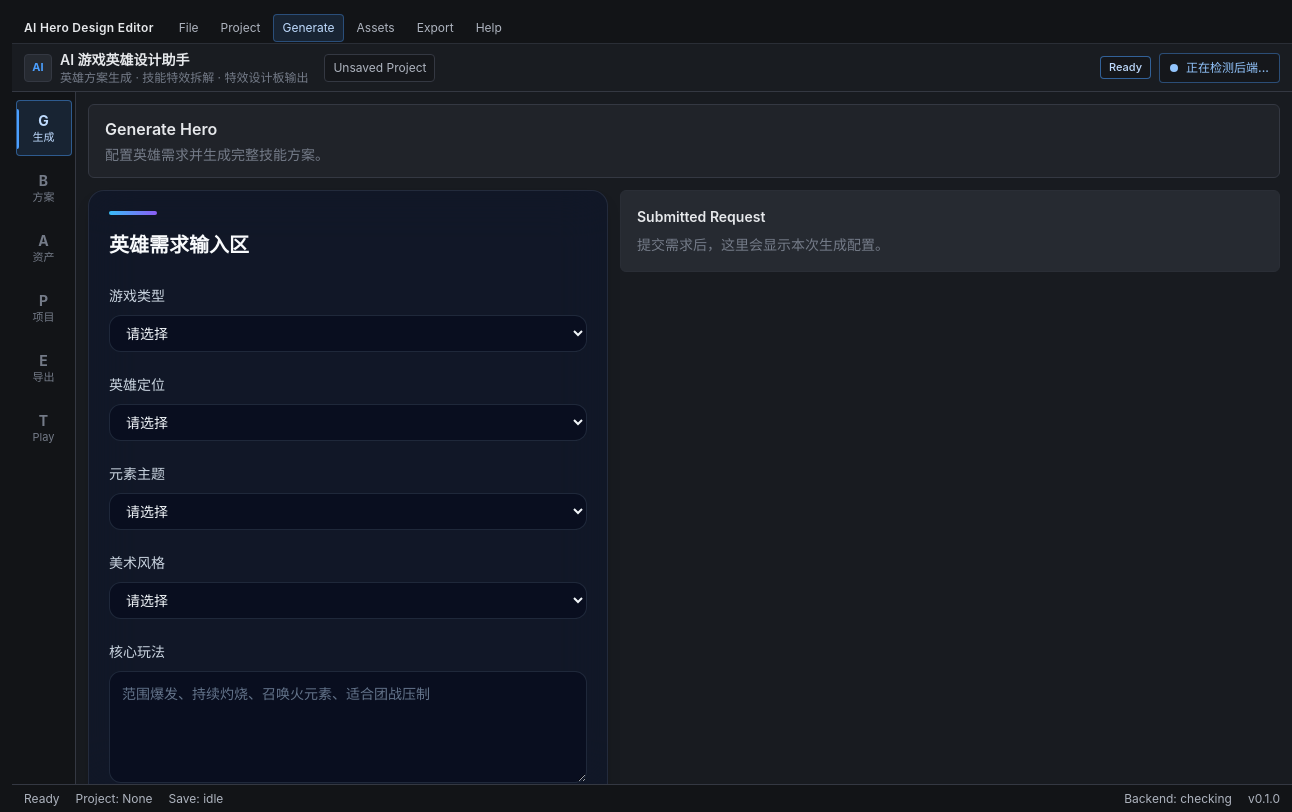
Test case: runtime vfx project integration › generates runtime vfx and saves runtime_vfx_asset_spec
Click the button with aria-label "Projects" at [44, 308], box [16, 280, 72, 336]
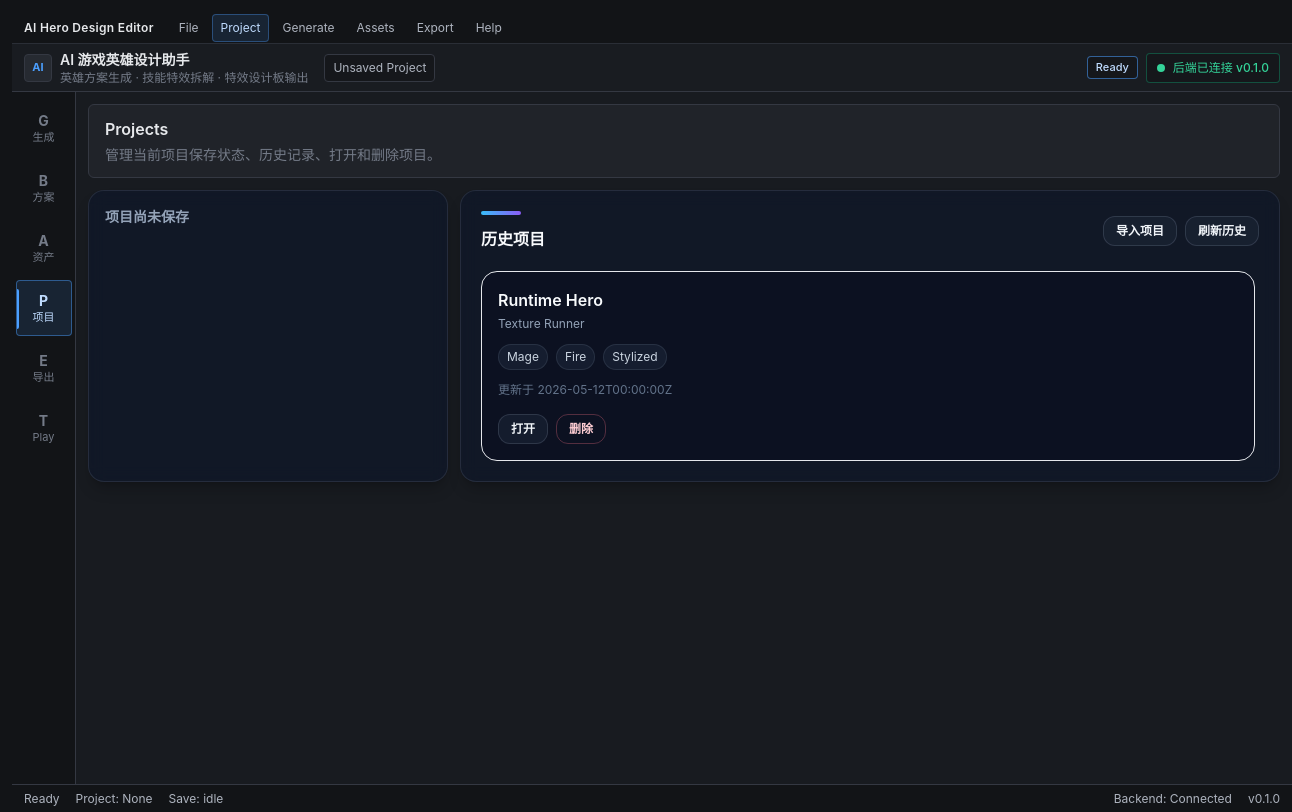
Expected: the heading "Runtime Hero" is shown, [498, 288, 603, 312]
Click the button "打开" at [523, 429], box [498, 414, 548, 444]
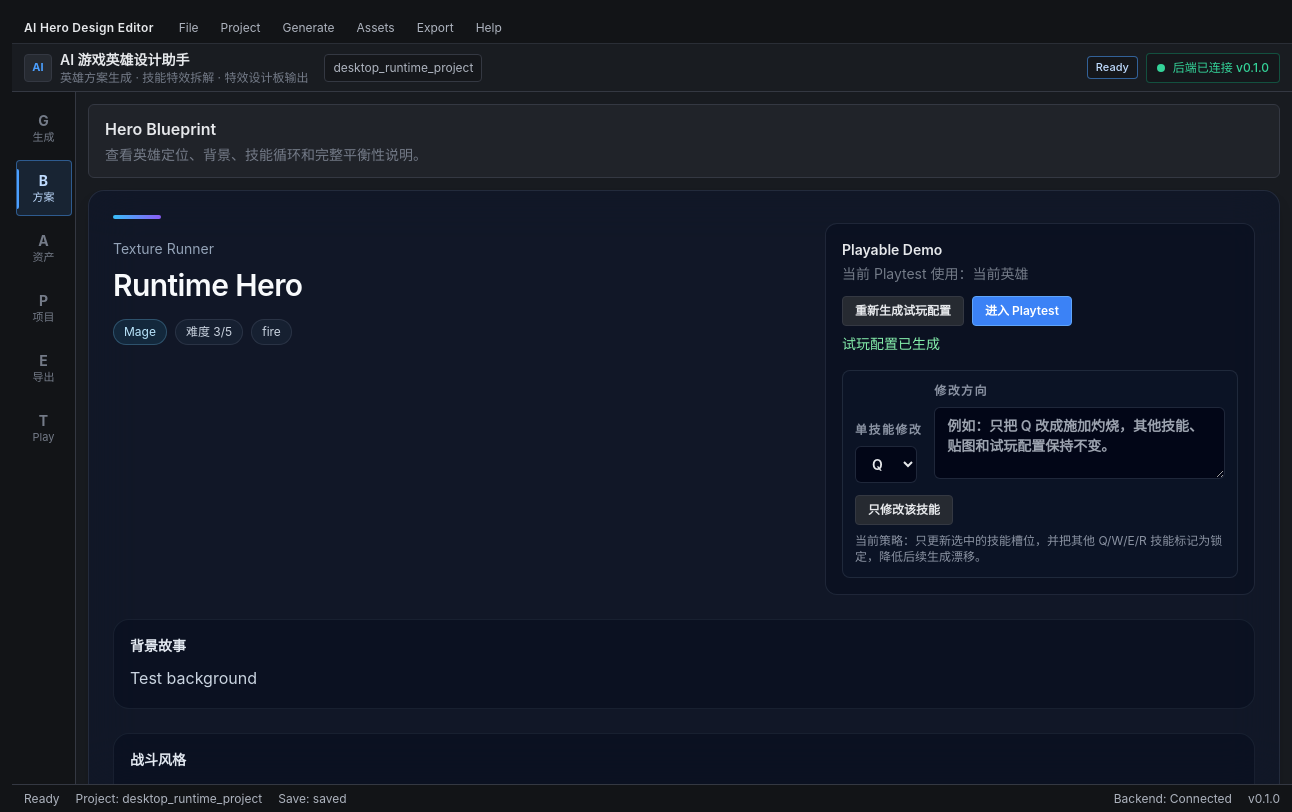
Click the button with aria-label "Assets" at [44, 248], box [16, 220, 72, 276]
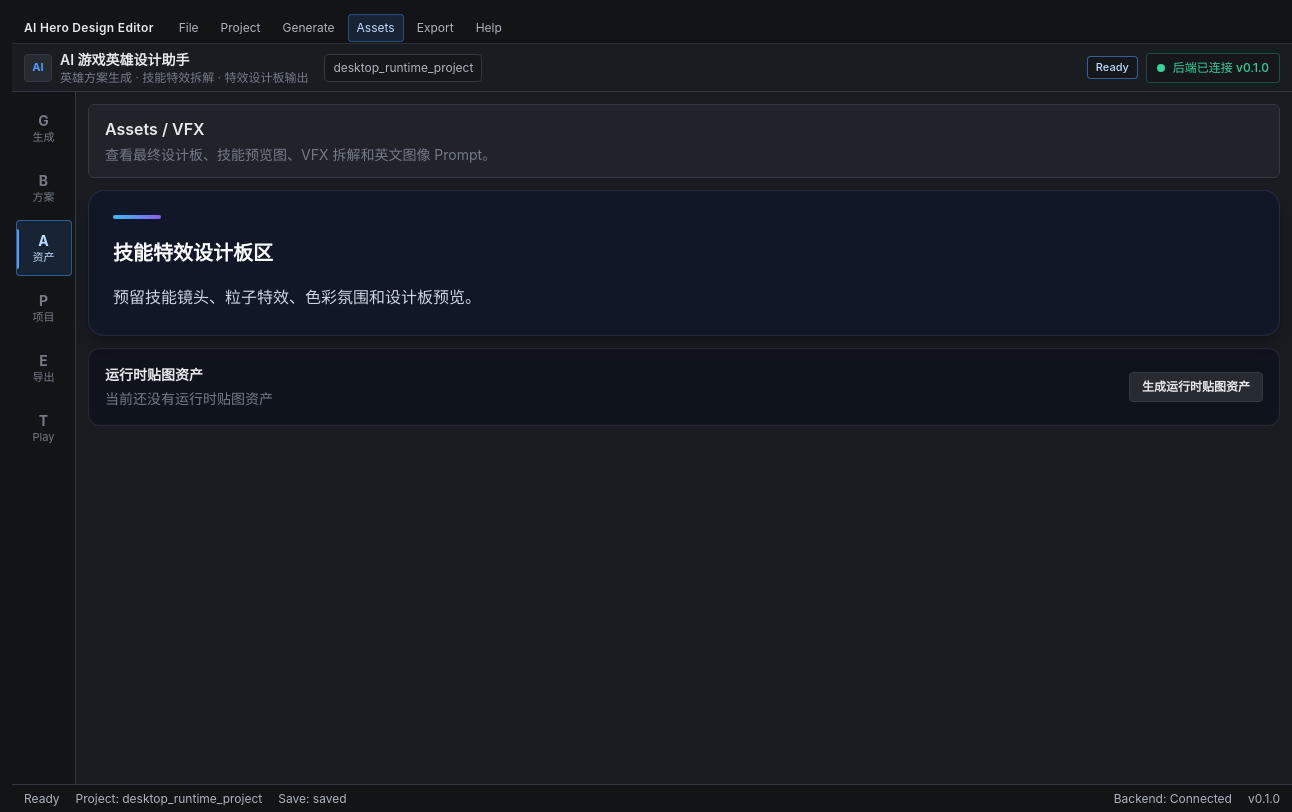
Click the button "生成运行时贴图资产" at [1196, 387], box [1129, 372, 1263, 402]
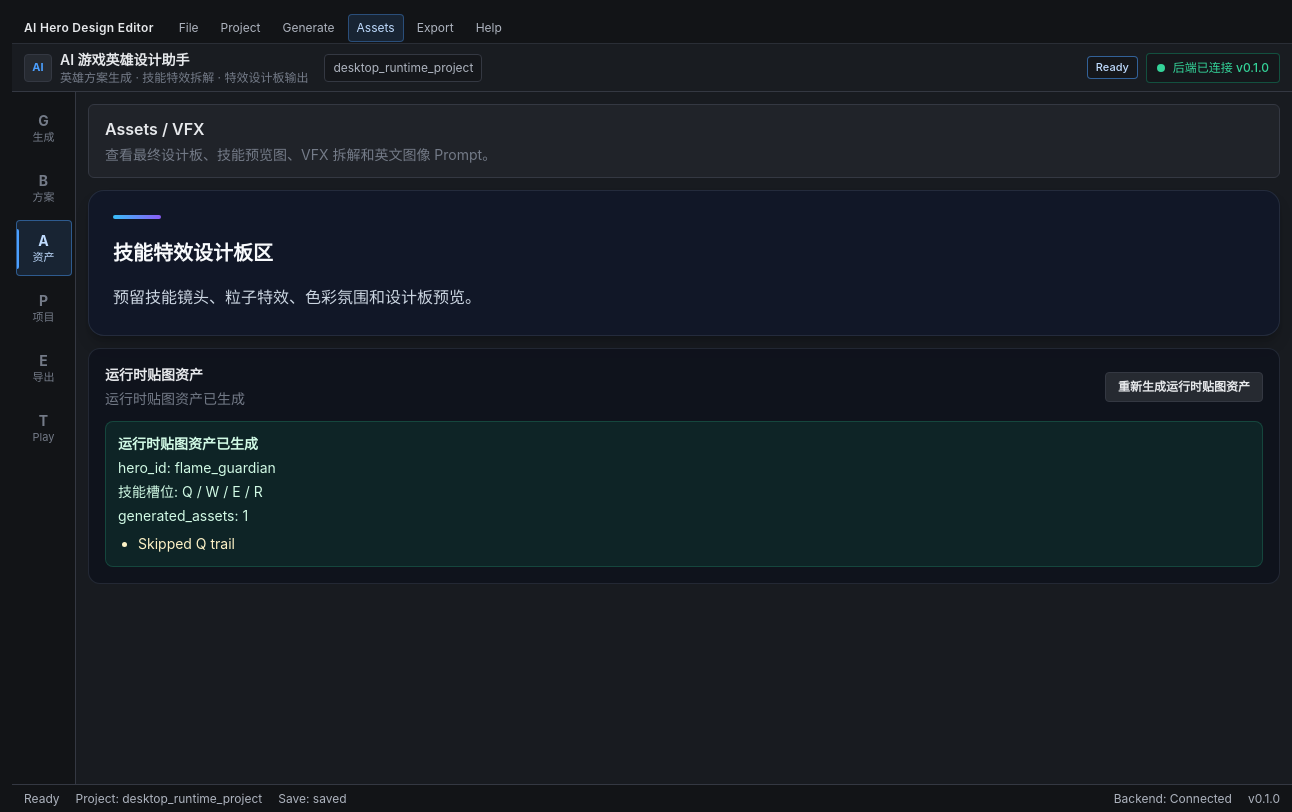
Expected: the text "generated_assets: 1" is shown, [118, 507, 248, 524]
Expected: the list item "Skipped Q trail" is shown, [138, 535, 235, 552]
